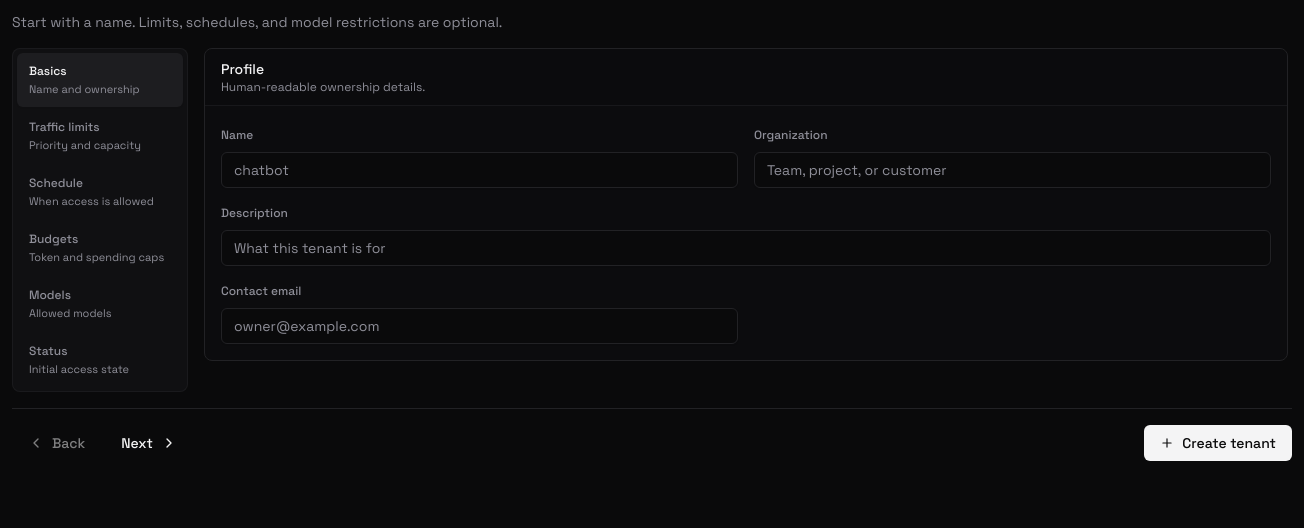
Test: preserves the draft after an unexpected server failure
In the field labelled "Name": (480,170) [221,152,738,188], type "Keep me"
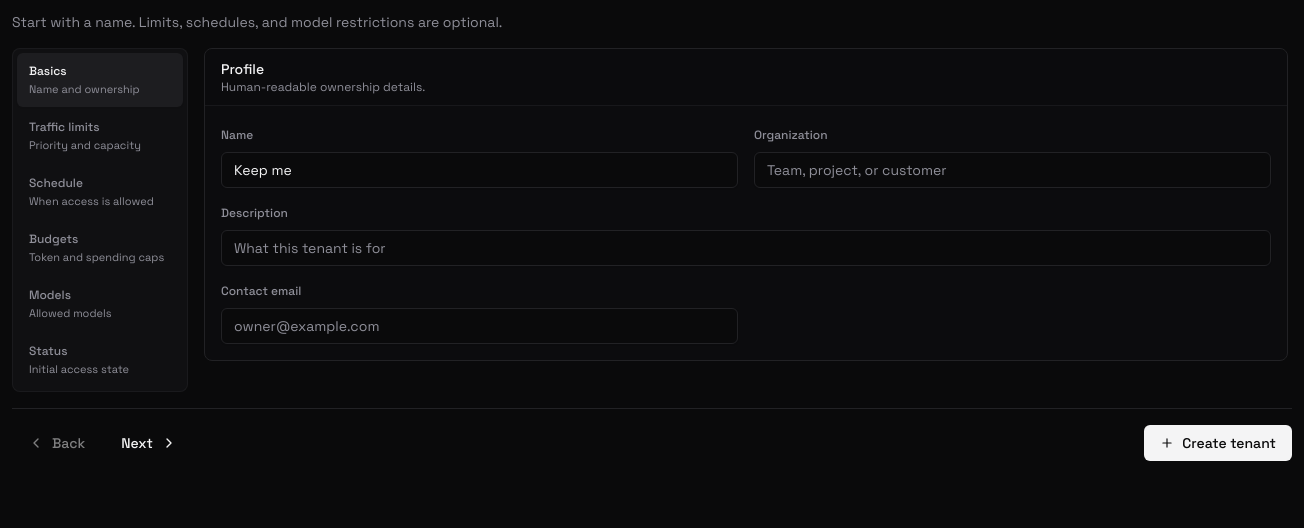
Submit the form
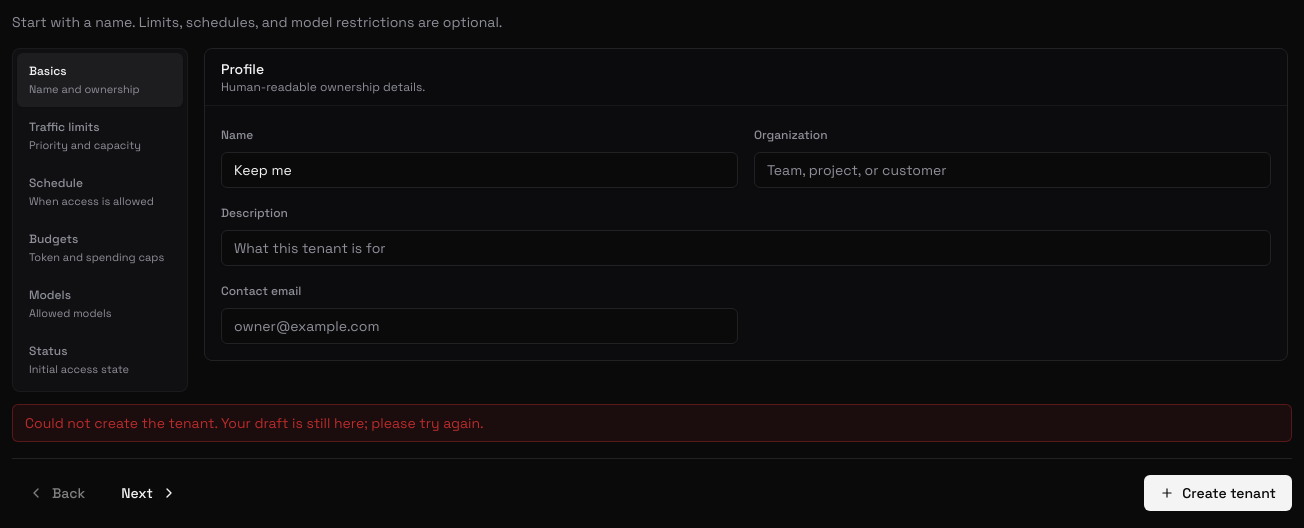
Check: the message "Could not create the tenant. Your draft is still here; please try again." is shown, box [12,404,1292,442]
